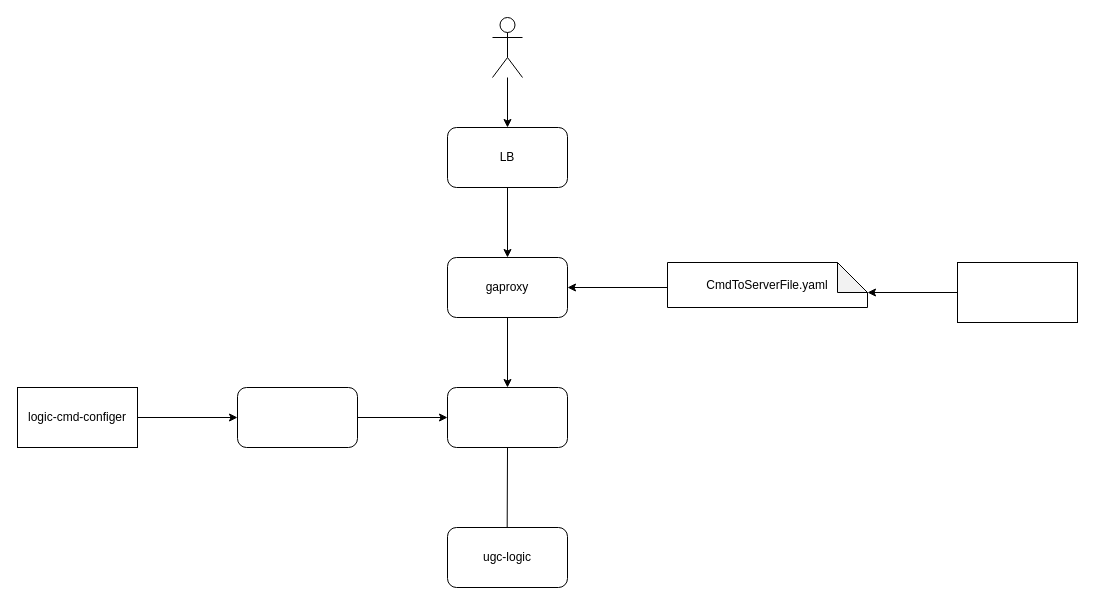
Some shapes in this 1095 by 605 pixel diagram are drawn without their labels. Here are the shapes that lost their labels. From the top down, the centre of each, then its label:
pixel 1017 292: CICD/config-center
pixel 297 417: etcd
pixel 507 417: logic-grpc-gateway
